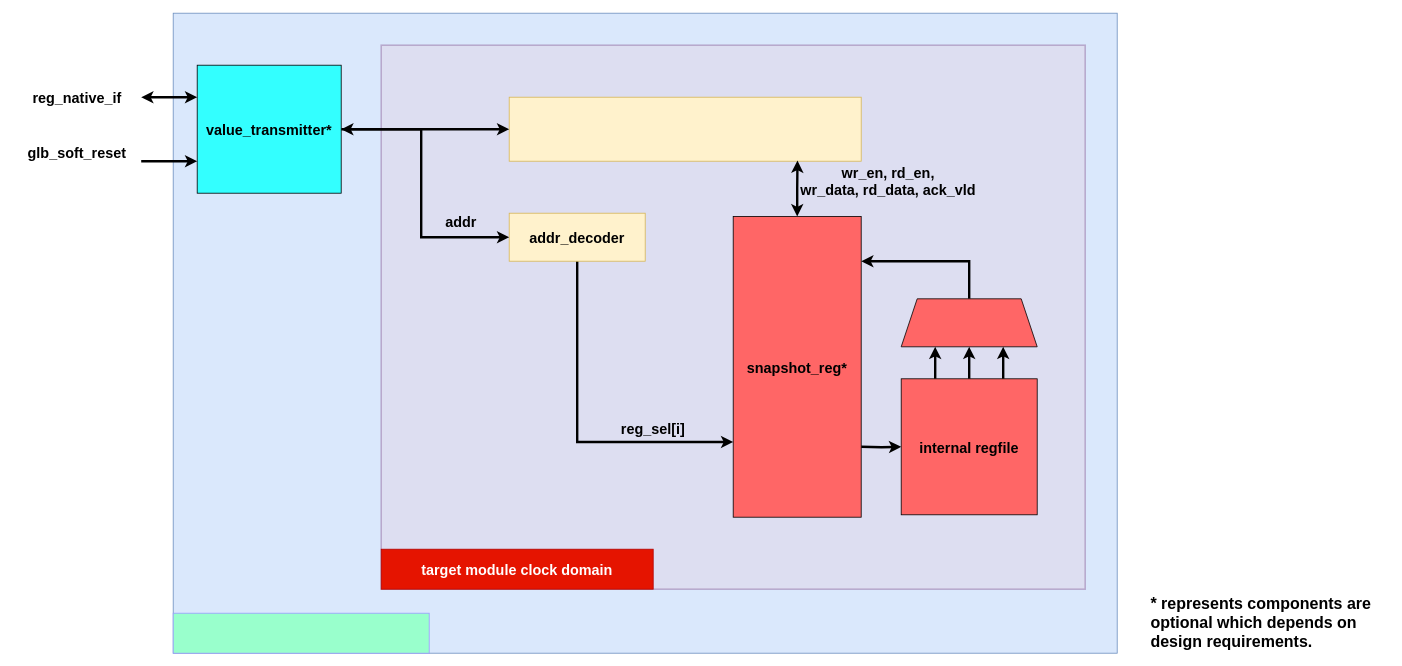
Some shapes in this 1402 by 666 pixel diagram are drawn without their labels. The shapes that lost their labels are listed below. From the top down, each one's box as (x1, y1, x2, y2) in pixels, then its label:
(508, 96, 861, 161): slv_fsm
(172, 612, 429, 653): Register Access Slave (regslv)
